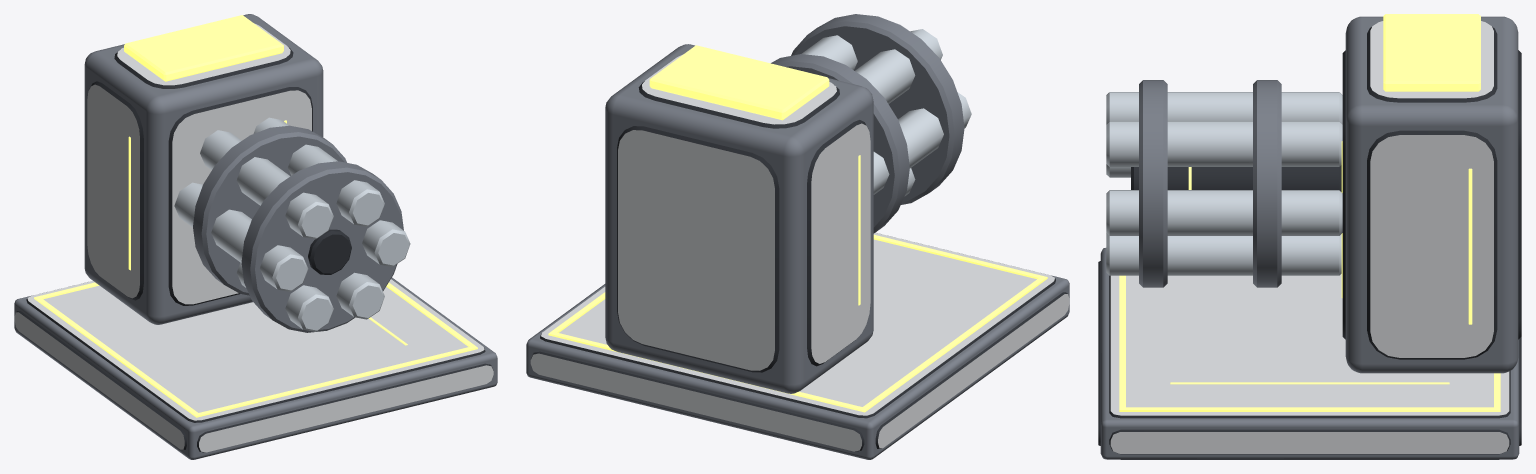
The model's file is R4X_RapidFire.fbx.
The picture shows the model from 3 angles, left to right: view 1: azimuth 30°, elevation 25°; view 2: azimuth 150°, elevation 25°; view 3: azimuth 270°, elevation 25°; orthographic projection. The views are drawn at different scales.
Parts seen in each view (by area): view 1: R4X_RapidFire_Body, R4X_RapidFire_Barrels; view 2: R4X_RapidFire_Body, R4X_RapidFire_Barrels; view 3: R4X_RapidFire_Body, R4X_RapidFire_Barrels.
Part boxes in pixels (x1,y1,x2,y2): R4X_RapidFire_Body: [14, 14, 497, 459]; R4X_RapidFire_Barrels: [174, 117, 410, 332]; R4X_RapidFire_Body: [526, 44, 1069, 459]; R4X_RapidFire_Barrels: [771, 14, 971, 233]; R4X_RapidFire_Body: [1098, 14, 1521, 459]; R4X_RapidFire_Barrels: [1106, 80, 1342, 287].
Size of the model in its own units: 0.52 by 0.445 by 0.52.
